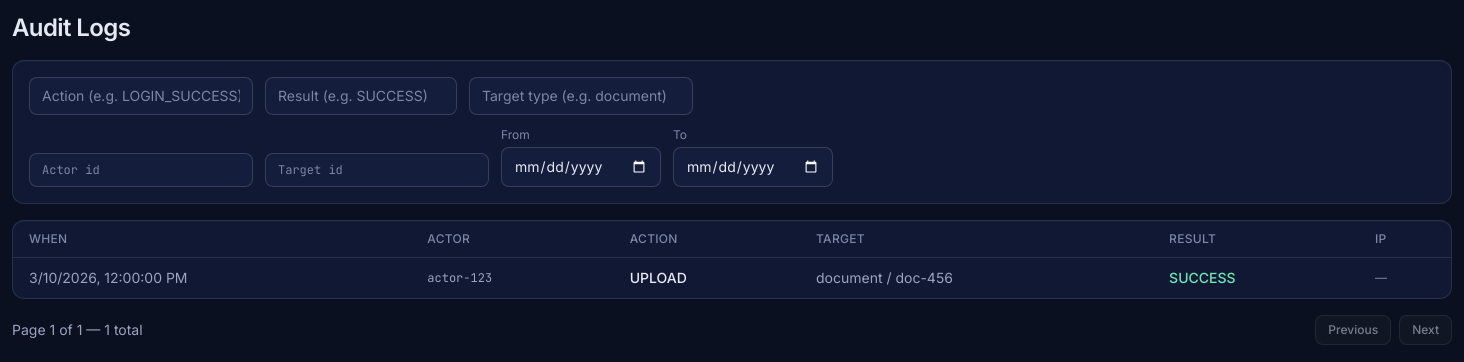
Scenario: AuditLogs filters › clicking an actor id in the table filters by it, and Clear filters resets
Click the button "actor-123" at (460, 278), box x1=427 y1=270 x2=492 y2=286
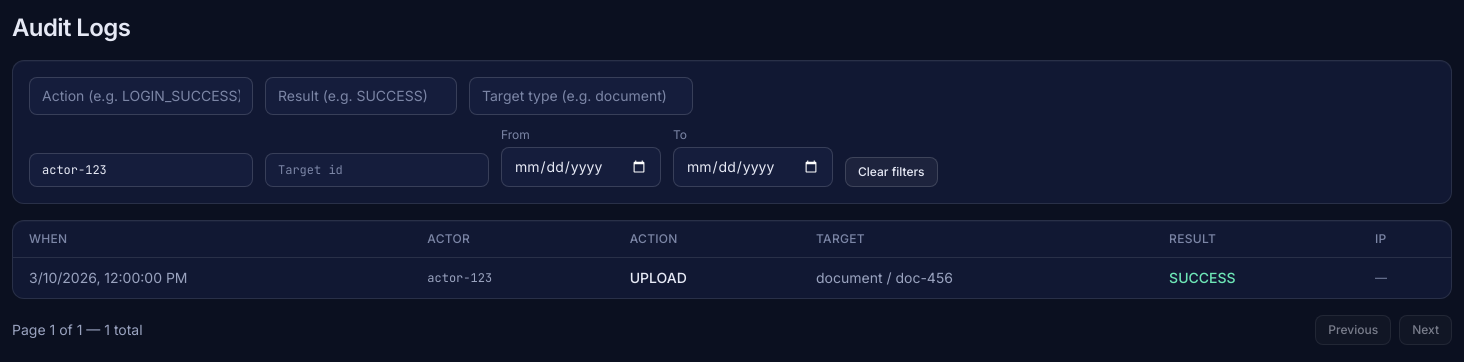
Click the button "Clear filters" at (891, 172), box x1=845 y1=157 x2=938 y2=187
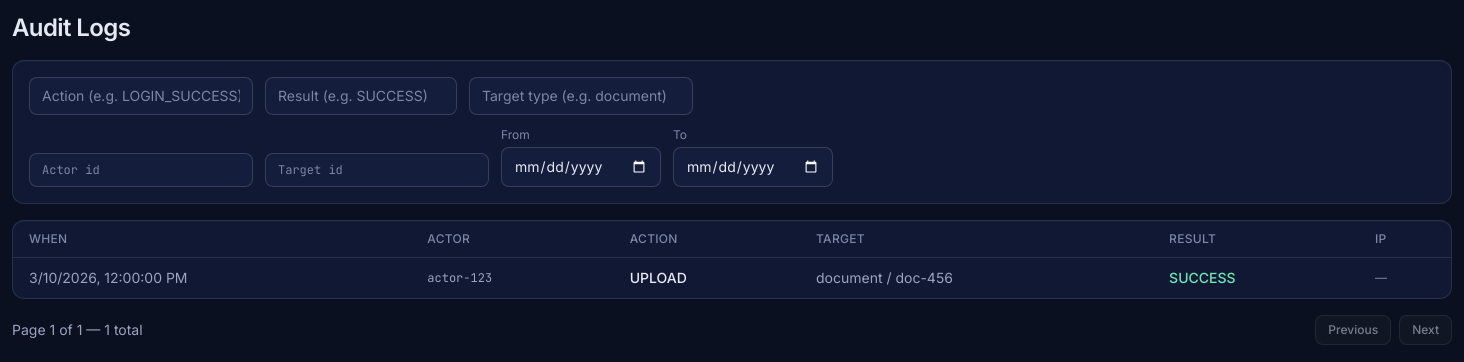
Expected: the button "Clear filters" is gone
